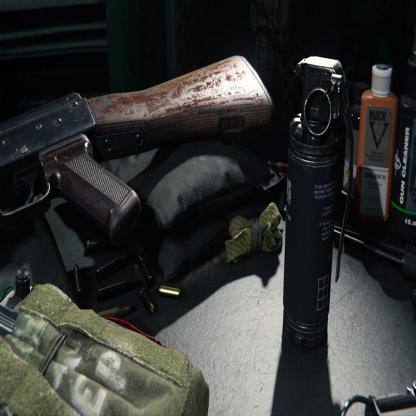Grenade: (282, 55, 355, 352)
Gun: (0, 54, 275, 245)
